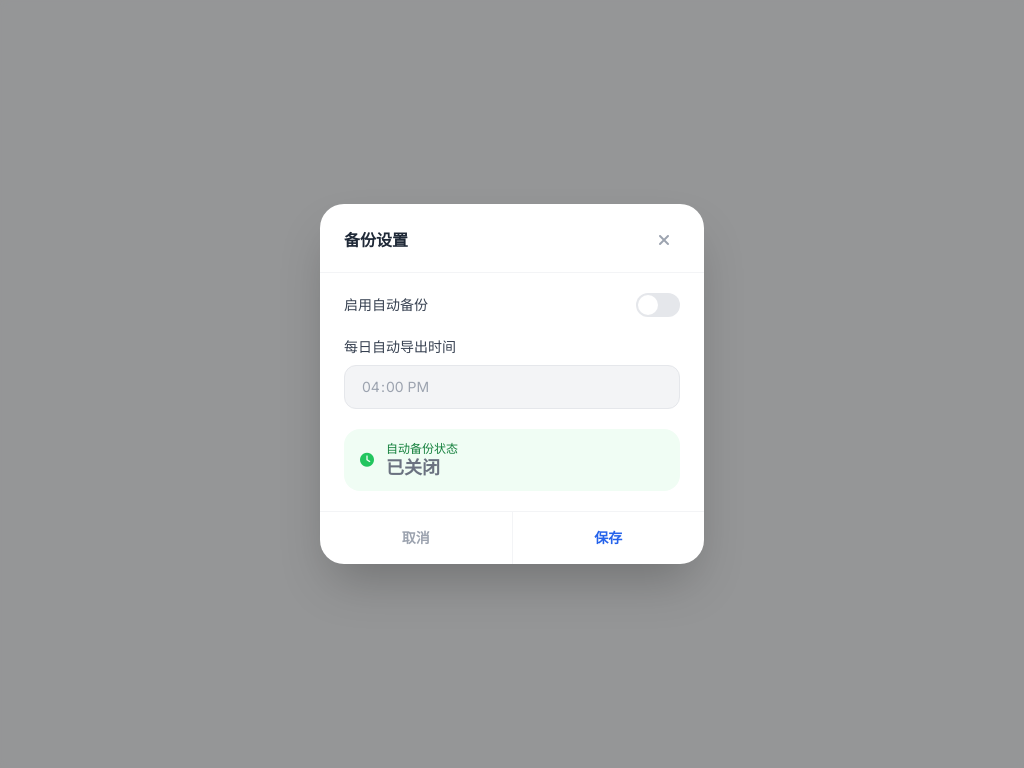
BackupSettingsModal - Auto Backup Toggle Feature › Time Input Conditional Behavior › time input changes when auto backup is toggled via UI
The image size is (1024, 768).
Expected: the time field labelled "每日自动导出时间" is disabled, [344,365,680,409]
// Find and click the toggle switch to enable auto backup
Step 1. Click the checkbox → (658,305), box [636,293,680,317]
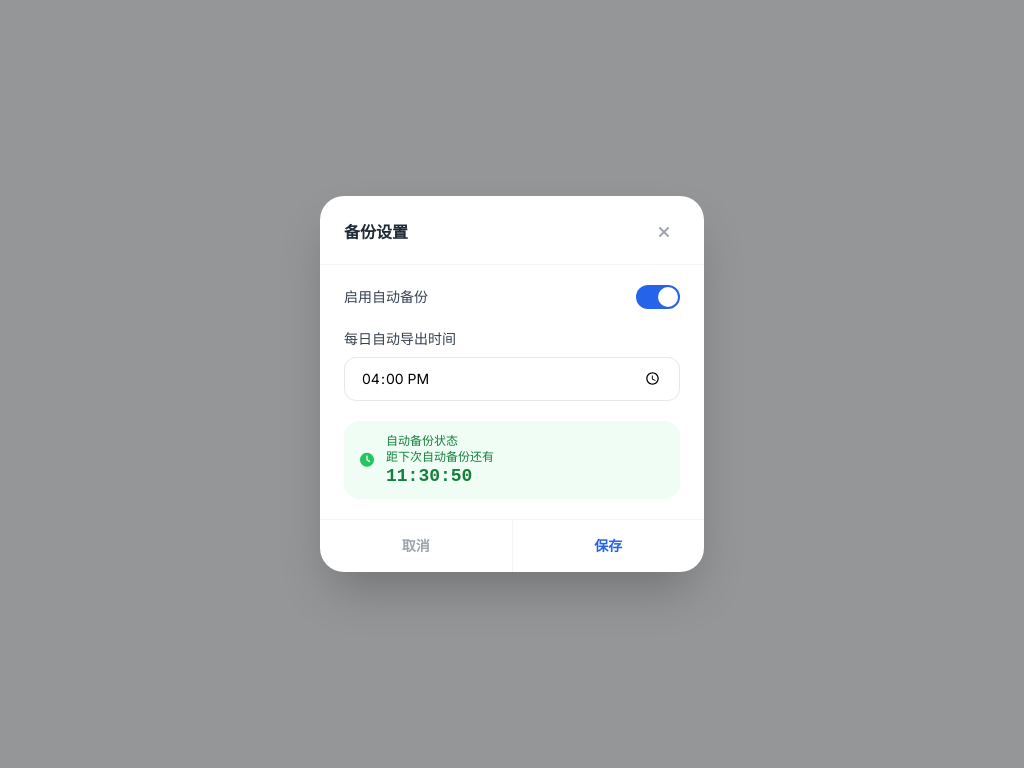
Expected: the time field labelled "每日自动导出时间" is enabled, [344,357,680,401]
